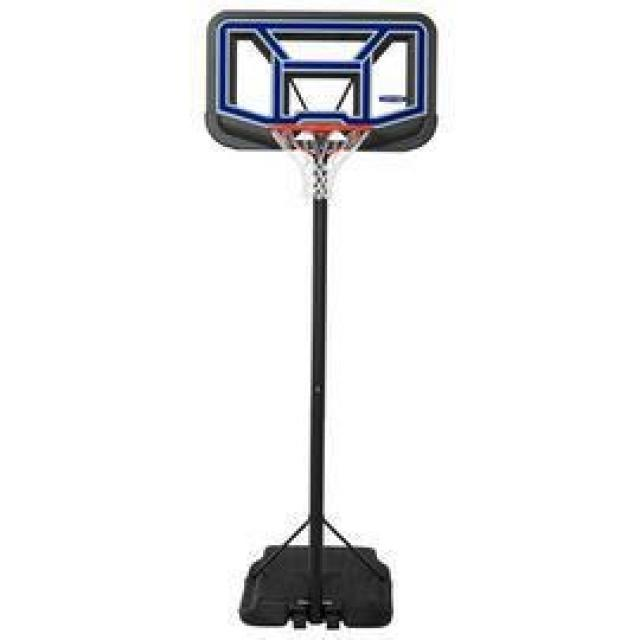hoop: (266, 123, 374, 201)
